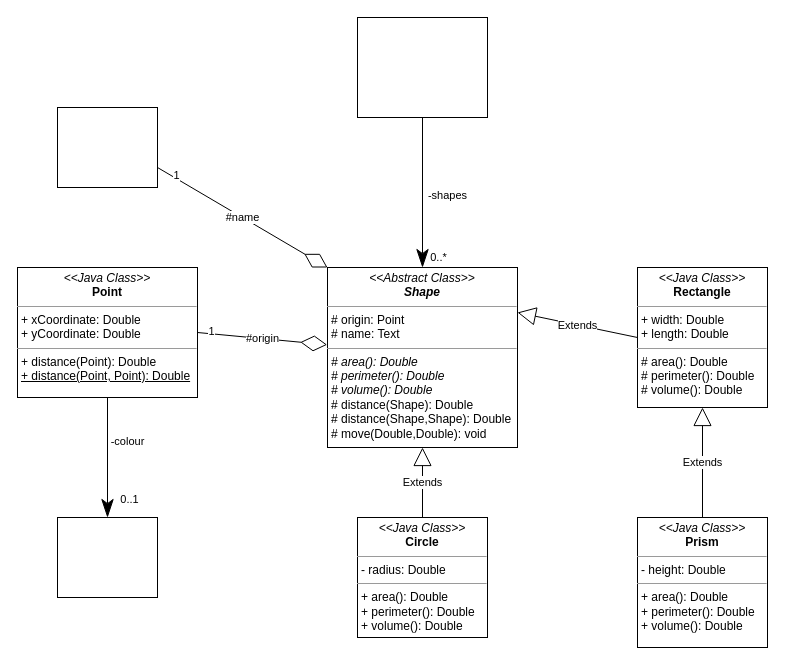
Image size: 785x665. Some labels were removed from this diagram. The shapes that lost their labels are listed below. From the top down, each one's centre as x and y in pixels, then its label:
At pixel 422 67: "<<Java Class>> Geometry + main(String[]): void".
At pixel 107 147: "<<Java Class>> Text + text: String".
At pixel 107 557: "<<Java Class>> Colour - colour: String".
